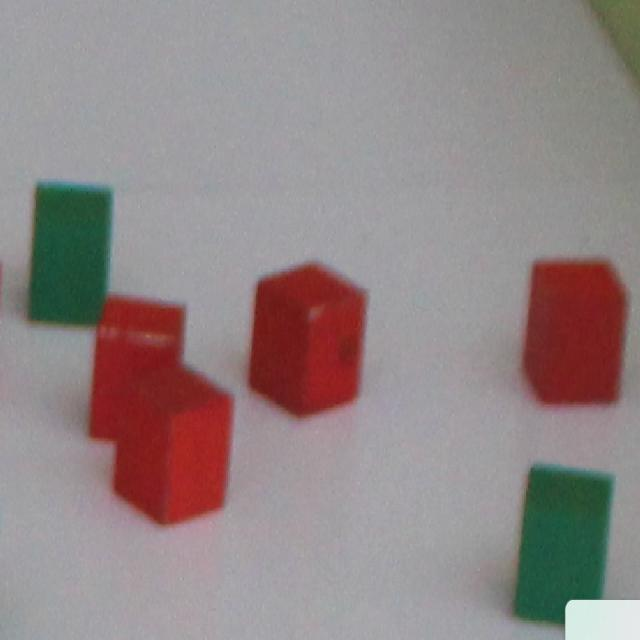green cube: (509, 457, 615, 628), (32, 187, 108, 315)
red cube: (106, 350, 240, 529), (249, 253, 371, 419), (520, 258, 629, 404), (89, 289, 191, 442)
